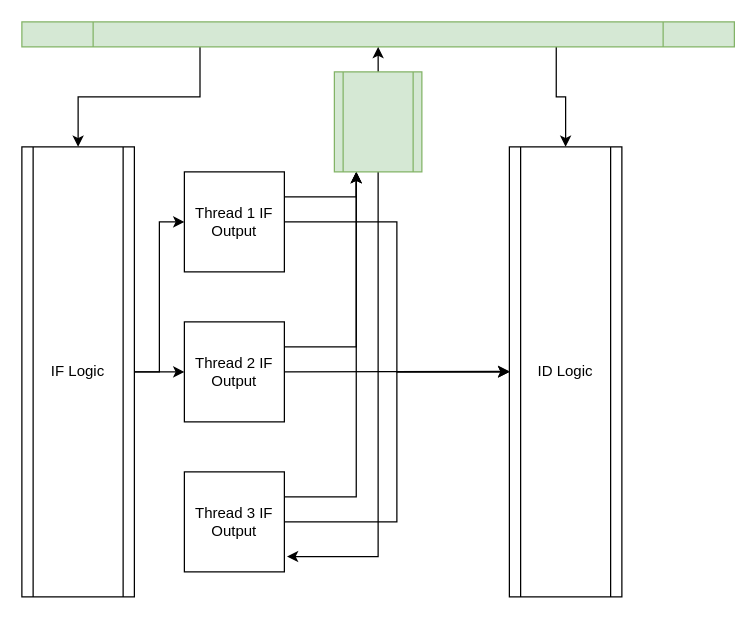
The diagram is 756 pixels wide and 619 high, and some of its shapes have lost their labels. Here are the shapes that lost their labels. From the top down, the centre of each, then its label:
At (x=377, y=34): "Clock Gating logic".
At (x=377, y=121): "Voting Logic".
